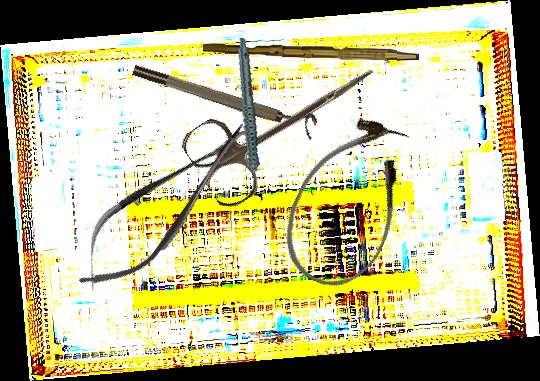Cannula: (267, 104, 430, 301)
Fixation Ring: (130, 53, 320, 141)
Handpiece: (215, 37, 280, 196)
Iris Scissors: (177, 30, 394, 214)
Micro Scissor: (56, 103, 272, 308)
Scalpel Handle: (202, 42, 420, 61)
